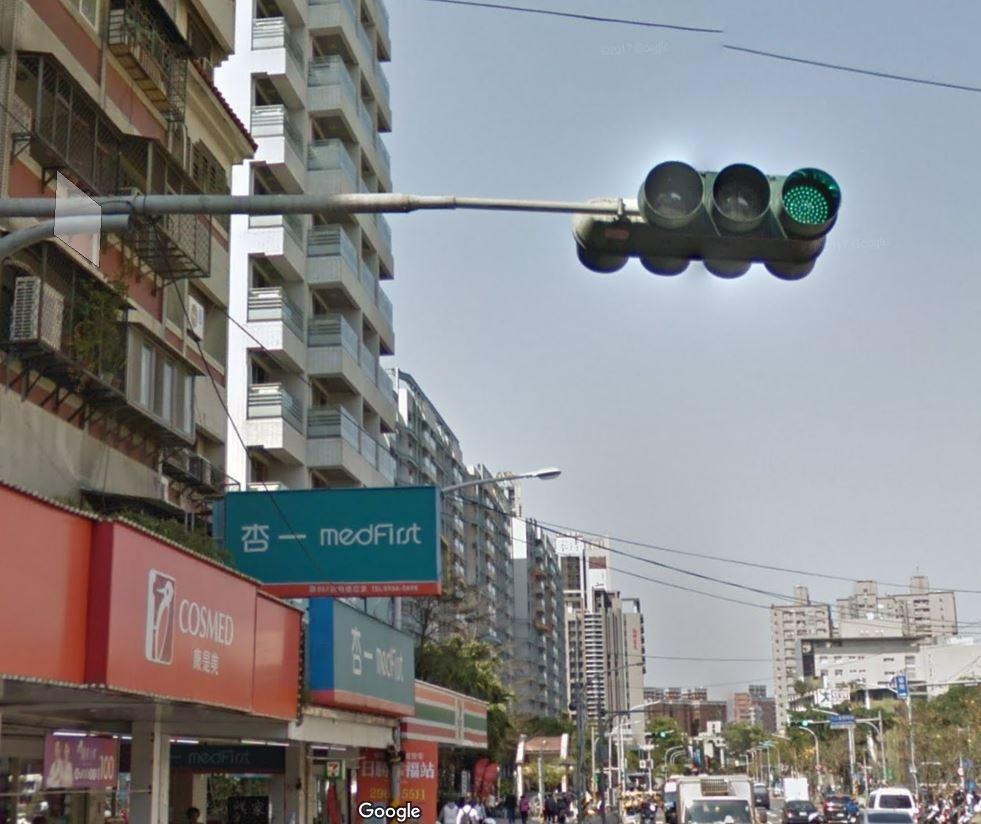green_traffic_light: (559, 132, 862, 308)
